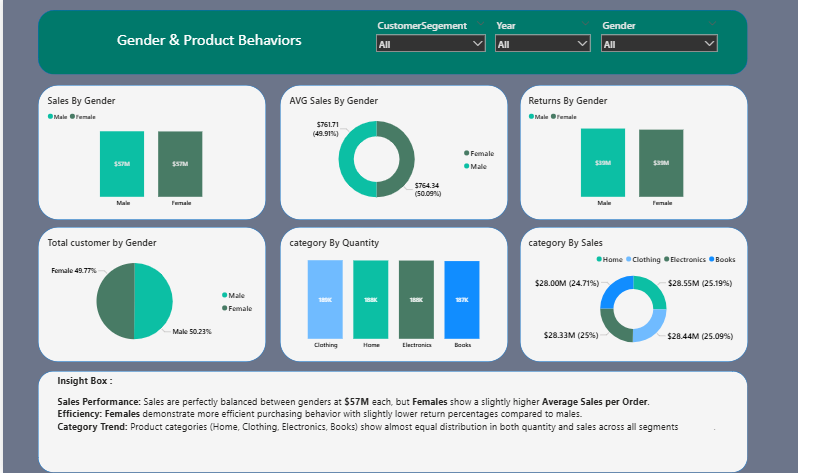

What the dashboard file says about the page in this screenshot:
{"tool":"powerbi","page":{"name":"Gender & Product Behavior","canvas":[1600,950],"ordinal":2},"visuals":[{"type":"shape","box":[70.3,24.7,1419.3,129.2],"z":0},{"type":"shape","box":[70.3,174.8,456,269.8],"z":1000},{"type":"shape","box":[554.8,174.8,456,269.8],"z":2000},{"type":"shape","box":[1033.6,174.8,456,269.8],"z":3000},{"type":"shape","box":[70.3,457.9,456,269.8],"z":4000},{"type":"shape","box":[554.8,457.9,456,269.8],"z":5000},{"type":"shape","box":[1033.6,457.9,456,269.8],"z":6000},{"type":"columnChart","title":"Sales By Gender","fields":{"Y":["ecommerce_customer_data_large.Total Sales"],"Category":["ecommerce_customer_data_large.Gender"],"Series":["ecommerce_customer_data_large.Gender"]},"box":[83.6,191.9,429.4,235.6],"z":7000},{"type":"donutChart","title":"AVG Sales By Gender","fields":{"Category":["ecommerce_customer_data_large.Gender"],"Y":["ecommerce_customer_data_large.AVG Purchase"]},"box":[568.1,191.9,429.4,235.6],"z":8000},{"type":"columnChart","title":"Returns By Gender","fields":{"Category":["ecommerce_customer_data_large.Gender"],"Series":["ecommerce_customer_data_large.Gender"],"Y":["ecommerce_customer_data_large.Total Return"]},"box":[1046.9,191.9,429.4,235.6],"z":9000},{"type":"pieChart","fields":{"Y":["ecommerce_customer_data_large.Total customer"],"Category":["ecommerce_customer_data_large.Gender"]},"box":[83.6,475,429.4,235.6],"z":10000},{"type":"columnChart","title":"category By Quantity","fields":{"Category":["ecommerce_customer_data_large.Product Category"],"Y":["Sum(ecommerce_customer_data_large.Quantity)"],"Series":["ecommerce_customer_data_large.Product Category"]},"box":[568.1,475,429.4,235.6],"z":11000},{"type":"donutChart","title":"category By Sales","fields":{"Category":["ecommerce_customer_data_large.Product Category"],"Y":["ecommerce_customer_data_large.Total Sales"]},"box":[1046.9,475,429.4,235.6],"z":12000},{"type":"slicer","fields":{"Values":["ecommerce_customer_data_large.Gender"]},"box":[1185.6,34.2,252.7,87.4],"z":13000},{"type":"slicer","fields":{"Values":["ecommerce_customer_data_large.Year"]},"box":[974.7,34.2,210.9,87.4],"z":14000},{"type":"slicer","fields":{"Values":["RFM.CustomerSegement"]},"box":[735.3,34.2,239.4,81.7],"z":15000},{"type":"textbox","box":[153.9,57,516.8,58.9],"z":16000},{"type":"shape","box":[70.3,746.7,1419.3,203.3],"z":17000},{"type":"textbox","box":[104.5,746.7,1354.7,203.3],"z":18000}]}

Visuals, with their boxes in screenshot pixels (x1, y1, x2, y2), scaled from the page's 1600x950 canvas onto the 819x473 screenshot:
shape: rect(36, 12, 762, 77)
shape: rect(36, 87, 269, 221)
shape: rect(284, 87, 517, 221)
shape: rect(529, 87, 762, 221)
shape: rect(36, 228, 269, 362)
shape: rect(284, 228, 517, 362)
shape: rect(529, 228, 762, 362)
"Sales By Gender" columnChart: rect(43, 96, 263, 213)
"AVG Sales By Gender" donutChart: rect(291, 96, 511, 213)
"Returns By Gender" columnChart: rect(536, 96, 756, 213)
pieChart - ecommerce_customer_data_large.Total customer x ecommerce_customer_data_large.Gender: rect(43, 236, 263, 354)
"category By Quantity" columnChart: rect(291, 236, 511, 354)
"category By Sales" donutChart: rect(536, 236, 756, 354)
slicer - ecommerce_customer_data_large.Gender: rect(607, 17, 736, 61)
slicer - ecommerce_customer_data_large.Year: rect(499, 17, 607, 61)
slicer - RFM.CustomerSegement: rect(376, 17, 499, 58)
textbox: rect(79, 28, 343, 58)
shape: rect(36, 372, 762, 472)
textbox: rect(53, 372, 747, 472)
